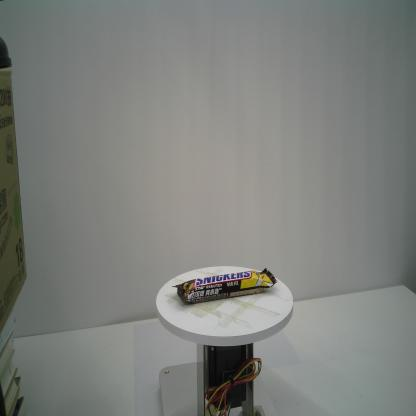Chocolate: (170, 265, 278, 306)
